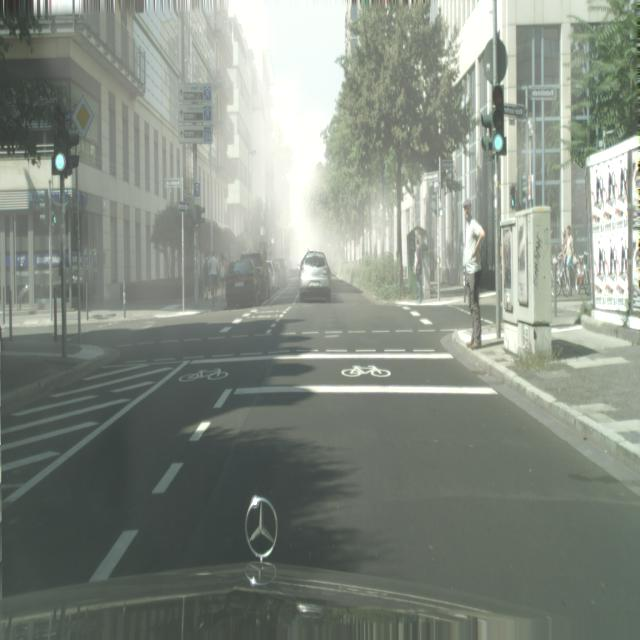car: (552, 248, 570, 299), (571, 247, 590, 294)
person: (462, 197, 486, 349), (413, 231, 427, 302), (566, 226, 578, 295), (209, 251, 218, 302), (202, 256, 210, 301)
truck: (225, 253, 269, 308), (299, 251, 332, 302), (273, 258, 289, 287), (266, 259, 279, 290)
